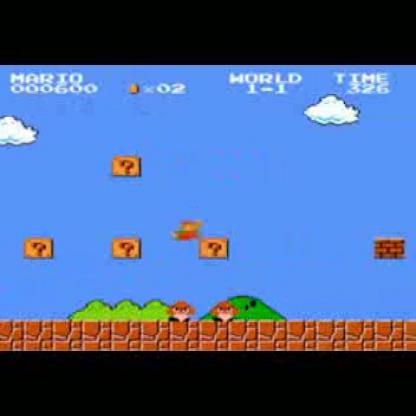Goomba: (165, 298, 200, 322), (211, 296, 238, 323)
